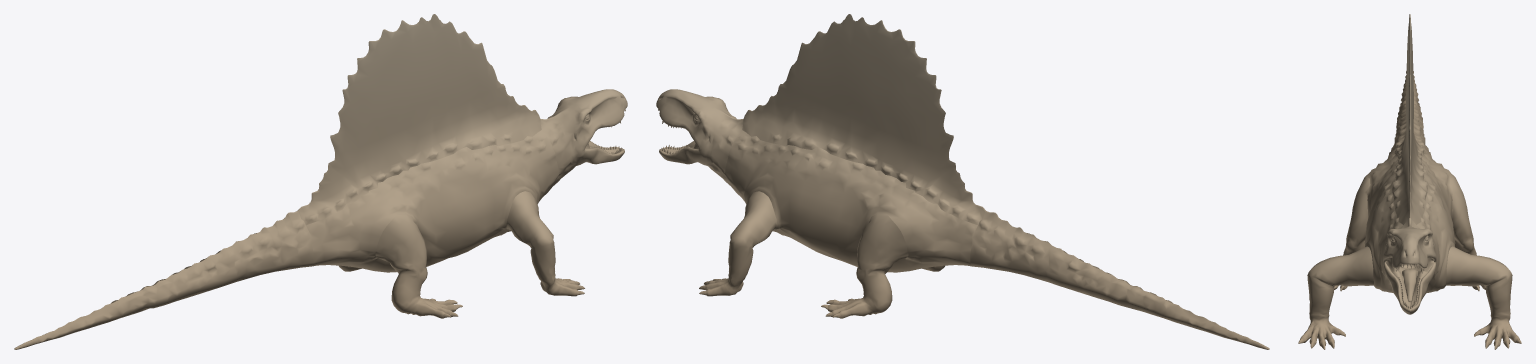
The model's file is dimetrodon.glb.
The picture shows the model from 3 angles, left to right: view 1: azimuth 30°, elevation 25°; view 2: azimuth 150°, elevation 25°; view 3: azimuth 270°, elevation 25°; orthographic projection.
Size of the model in its own units: 10.6 by 4.42 by 3.35.
